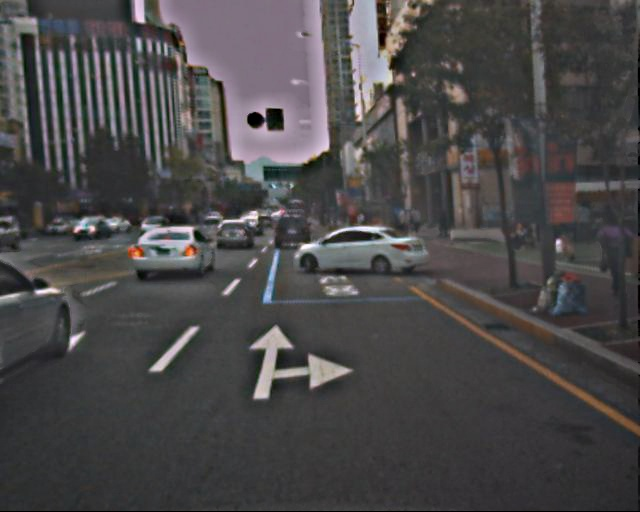person: (598, 210, 634, 298), (410, 206, 423, 238), (438, 208, 451, 240)
